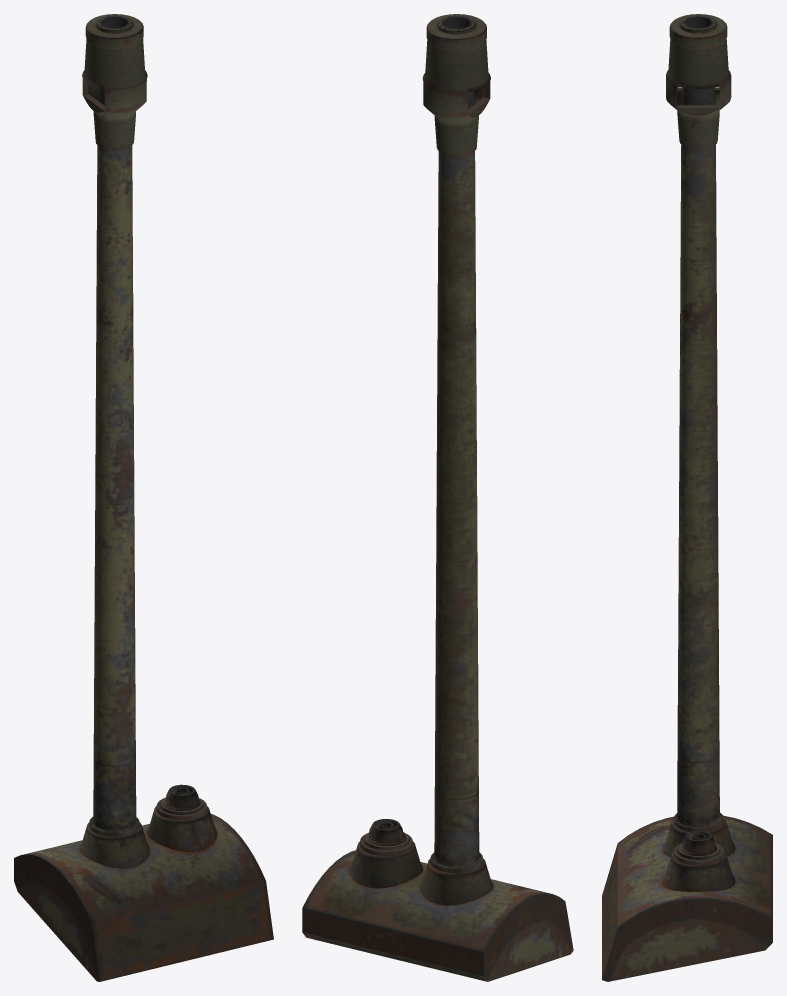
The model's file is Gun_09.glb.
3 renders of one model, left to right at view 1: azimuth 30°, elevation 25°; view 2: azimuth 150°, elevation 25°; view 3: azimuth 270°, elevation 25°, orthographic. The views are drawn at different scales.
Parts seen in each view (by area): view 1: set_0_group_0; view 2: set_0_group_0; view 3: set_0_group_0.
Boxes of the visible parts, <box> form: set_0_group_0: <box>14,14,273,981</box>; set_0_group_0: <box>302,14,573,981</box>; set_0_group_0: <box>602,14,772,981</box>.
Size of the model in its own units: 0.9947 by 4.97 by 0.8502.
1 material, 1 textured.
